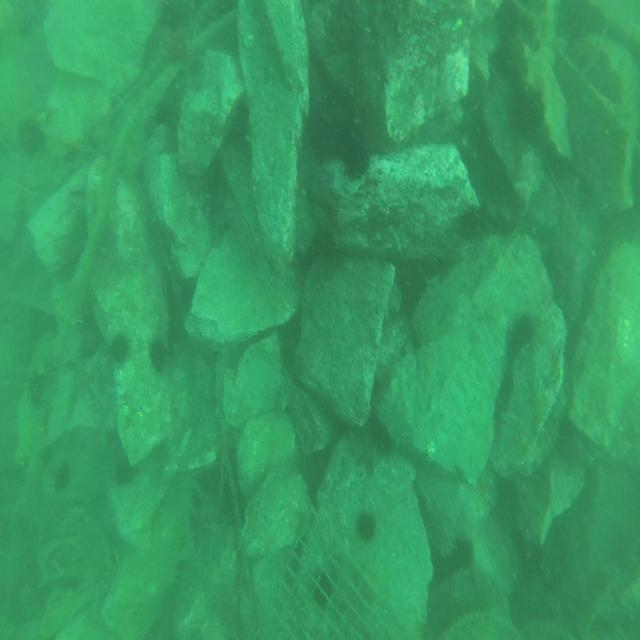echinus: (341, 130, 368, 181), (20, 119, 42, 155), (311, 572, 333, 606), (356, 507, 377, 542), (453, 536, 475, 568), (149, 338, 167, 374), (109, 334, 129, 364), (29, 371, 44, 407), (116, 456, 134, 484), (54, 464, 70, 486)
